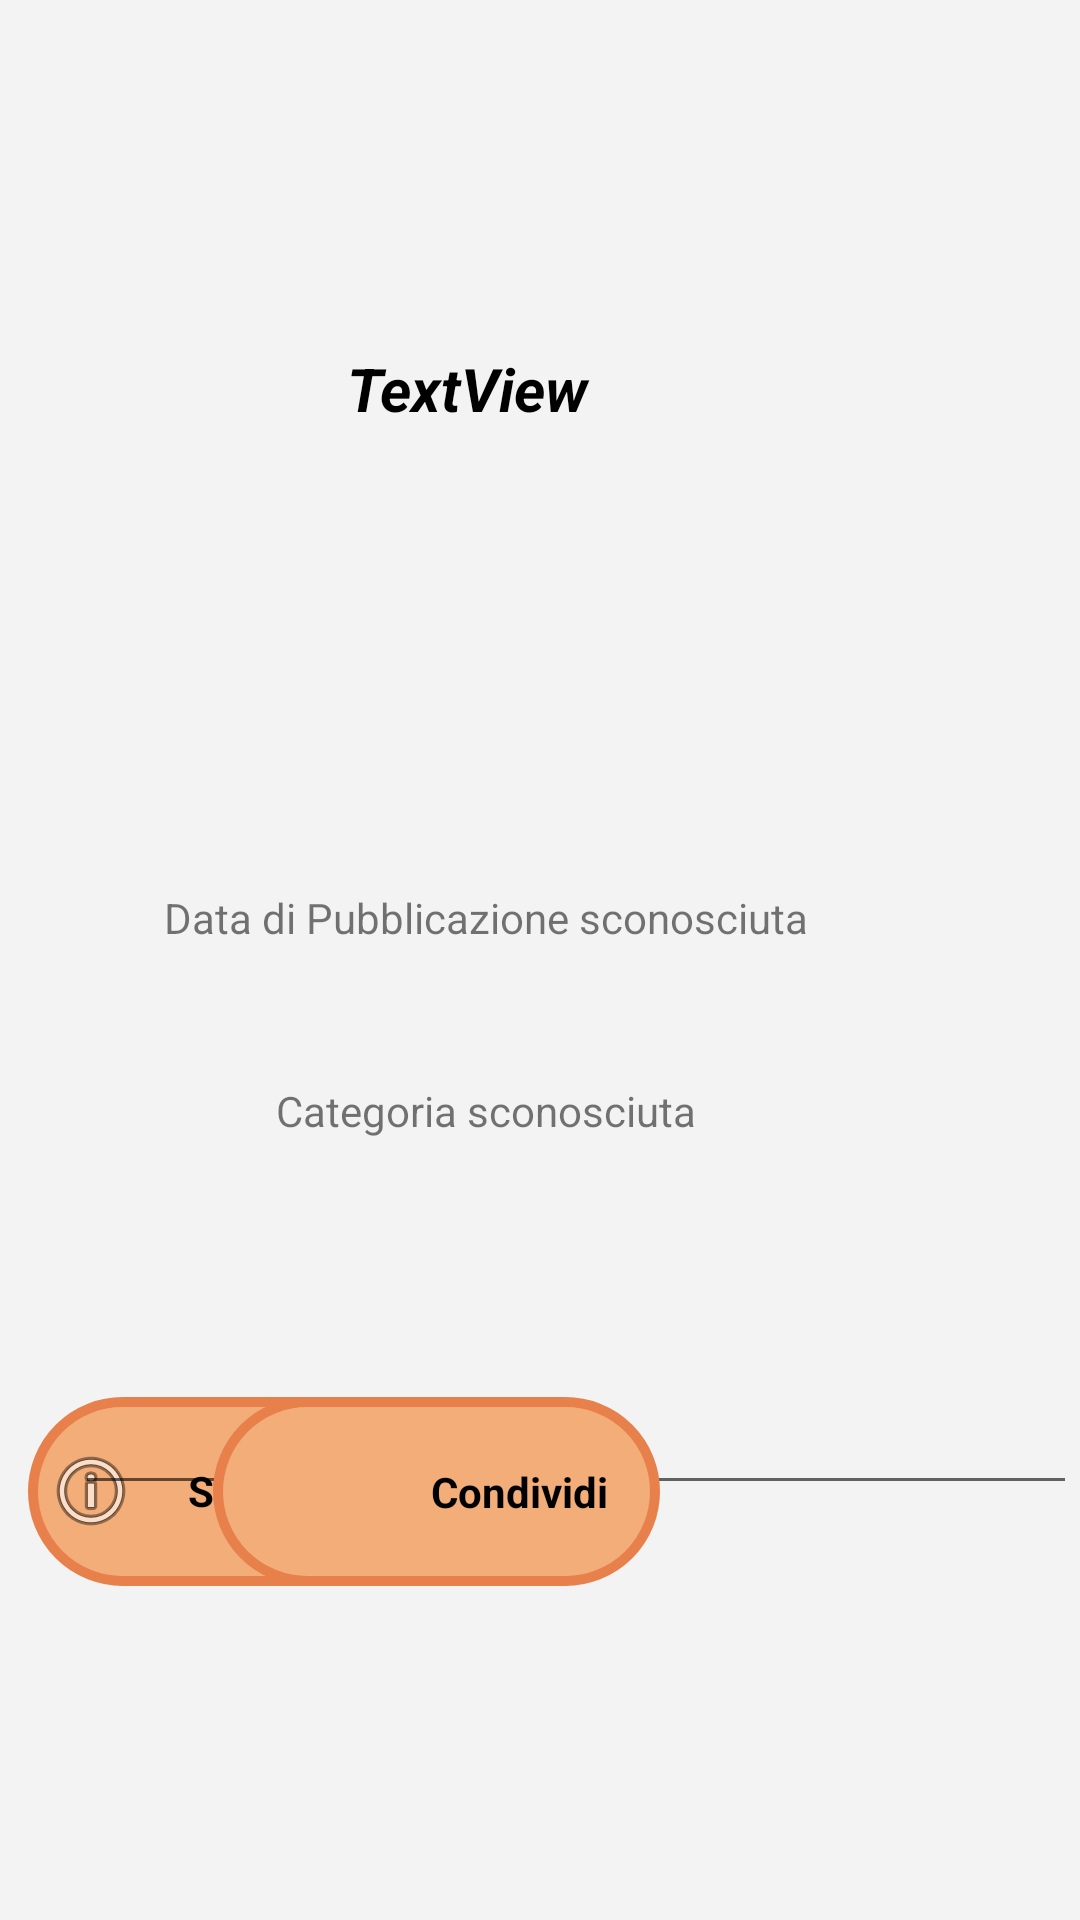

Locate icon controls on the screen. Image size 1080x1920, boxes as [x1=x1, y1=y1, x2=x2, y2=y2].
info details: [x1=28, y1=1443, x2=154, y2=1539]
